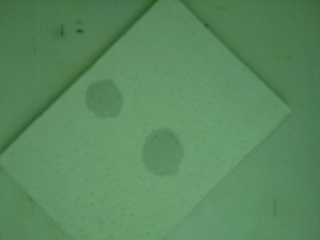Water_detected: (152, 130, 185, 168), (96, 91, 118, 114)
